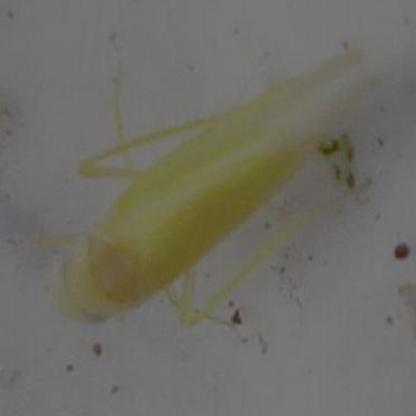green-leafhopper: (55, 36, 386, 337)
